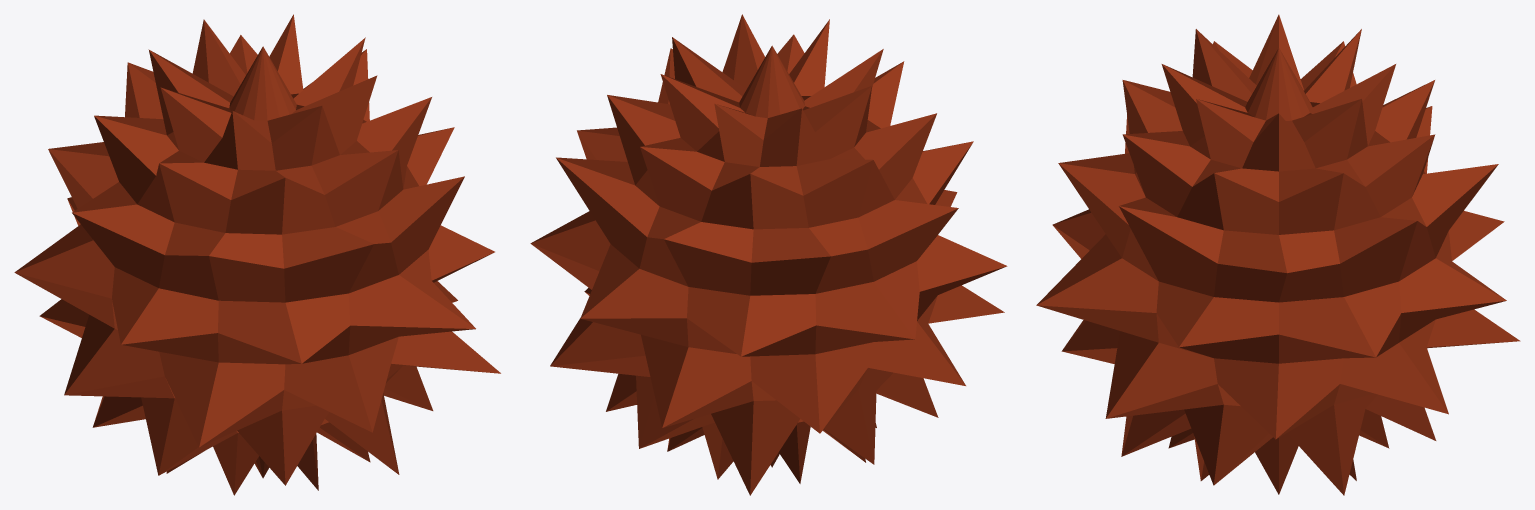
Rendered from igaguriEnemy.FBX.
3 views of the same model, side by side, from view 1: azimuth 30°, elevation 25°; view 2: azimuth 150°, elevation 25°; view 3: azimuth 270°, elevation 25° (orthographic). The views are drawn at different scales.
Visible parts, largest first — view 1: Sphere; view 2: Sphere; view 3: Sphere.
Boxes of the visible parts, <box> form: Sphere: <box>14,14,500,495</box>; Sphere: <box>530,14,1007,495</box>; Sphere: <box>1036,14,1520,495</box>.
Bounding box in the file's own units: 0.8555 × 0.8893 × 0.9102.
